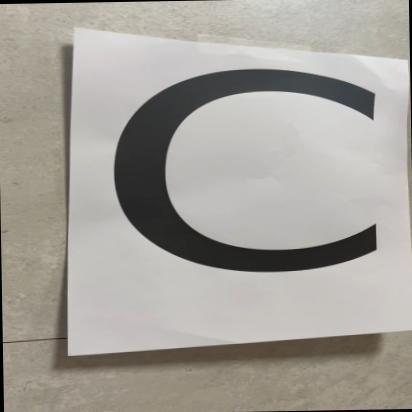seat: (29, 16, 412, 350)
